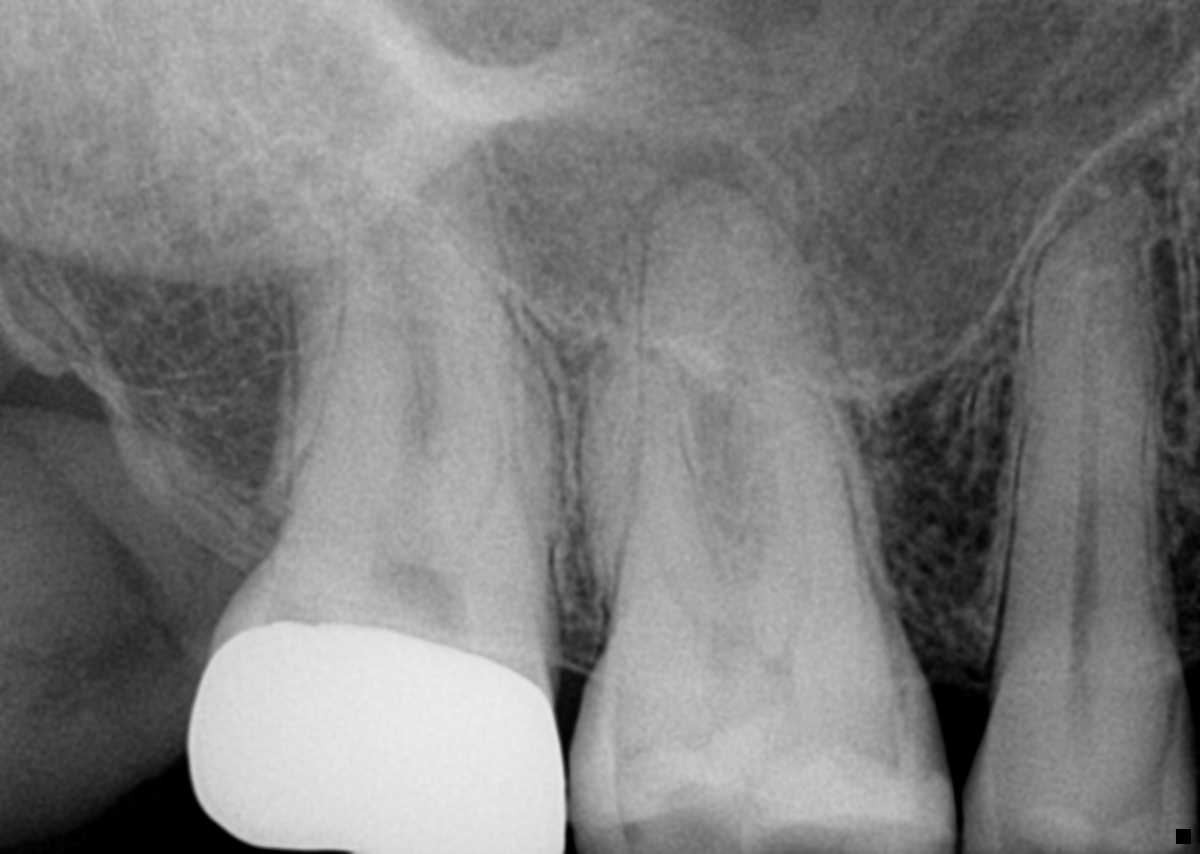Apical Lesion: (643, 133, 795, 231)
Distal Canal: (647, 495, 706, 621)
Distal Root: (291, 196, 426, 535), (583, 354, 734, 647)
Main Canal: (1071, 280, 1105, 629)
Main Root: (1002, 184, 1170, 638)
Mesial Canal: (460, 364, 506, 569), (786, 458, 809, 617)
Mesial Root: (398, 231, 559, 600), (730, 376, 886, 632)
Palatal Root: (251, 47, 536, 633), (593, 168, 904, 693)
